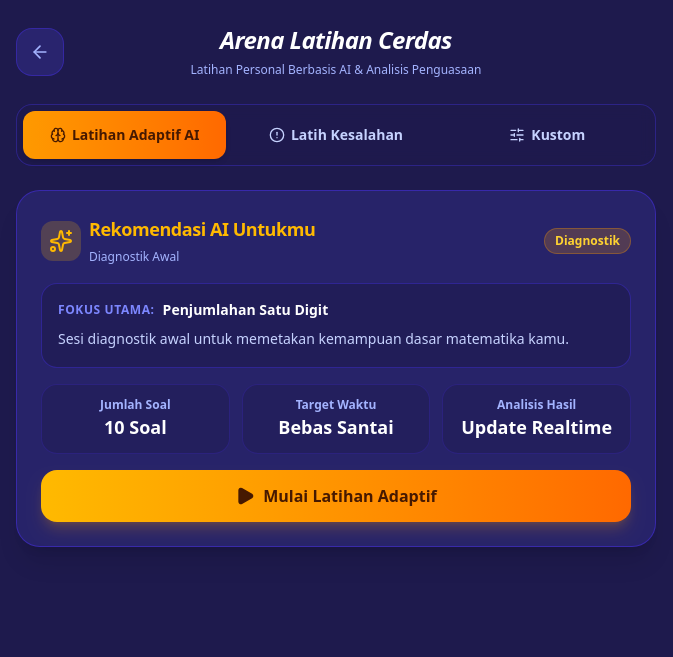
Test: PracticeScreen Orchestrator › navigates back to hub when exiting play arena
Step 1. Click the button "Mulai Latihan Adaptif" → {"x": 336, "y": 496}, box [41,470,631,522]
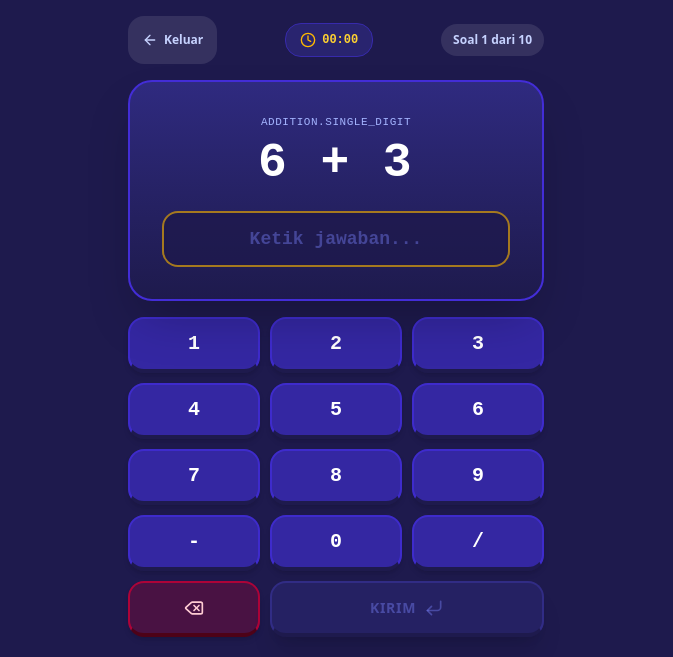
expect the text "Soal 1 dari 10" is shown: met, box [441,24,544,56]
Step 2. Click the button with aria-label "kembali" → {"x": 173, "y": 40}, box [128,16,217,64]
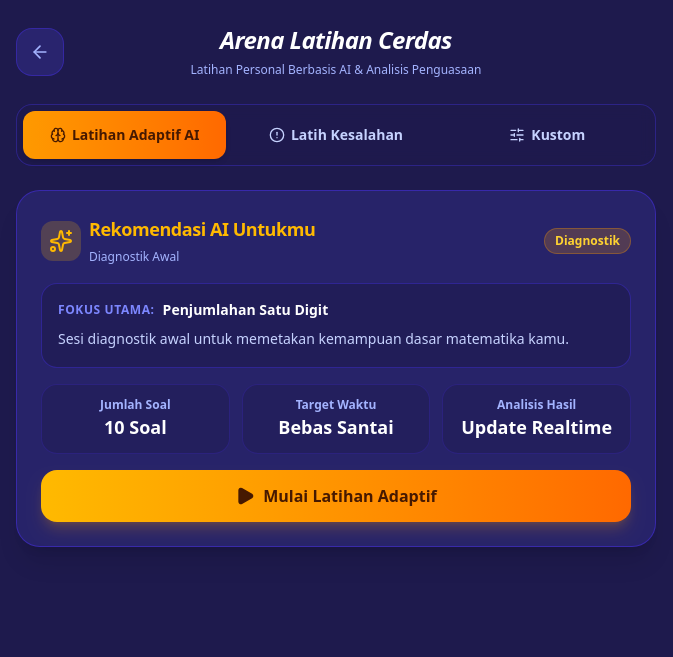
expect the text "Latihan Adaptif AI" is shown: met, box [72,125,200,145]
